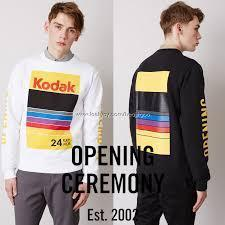sweater: (126, 46, 210, 194), (4, 54, 100, 182)
